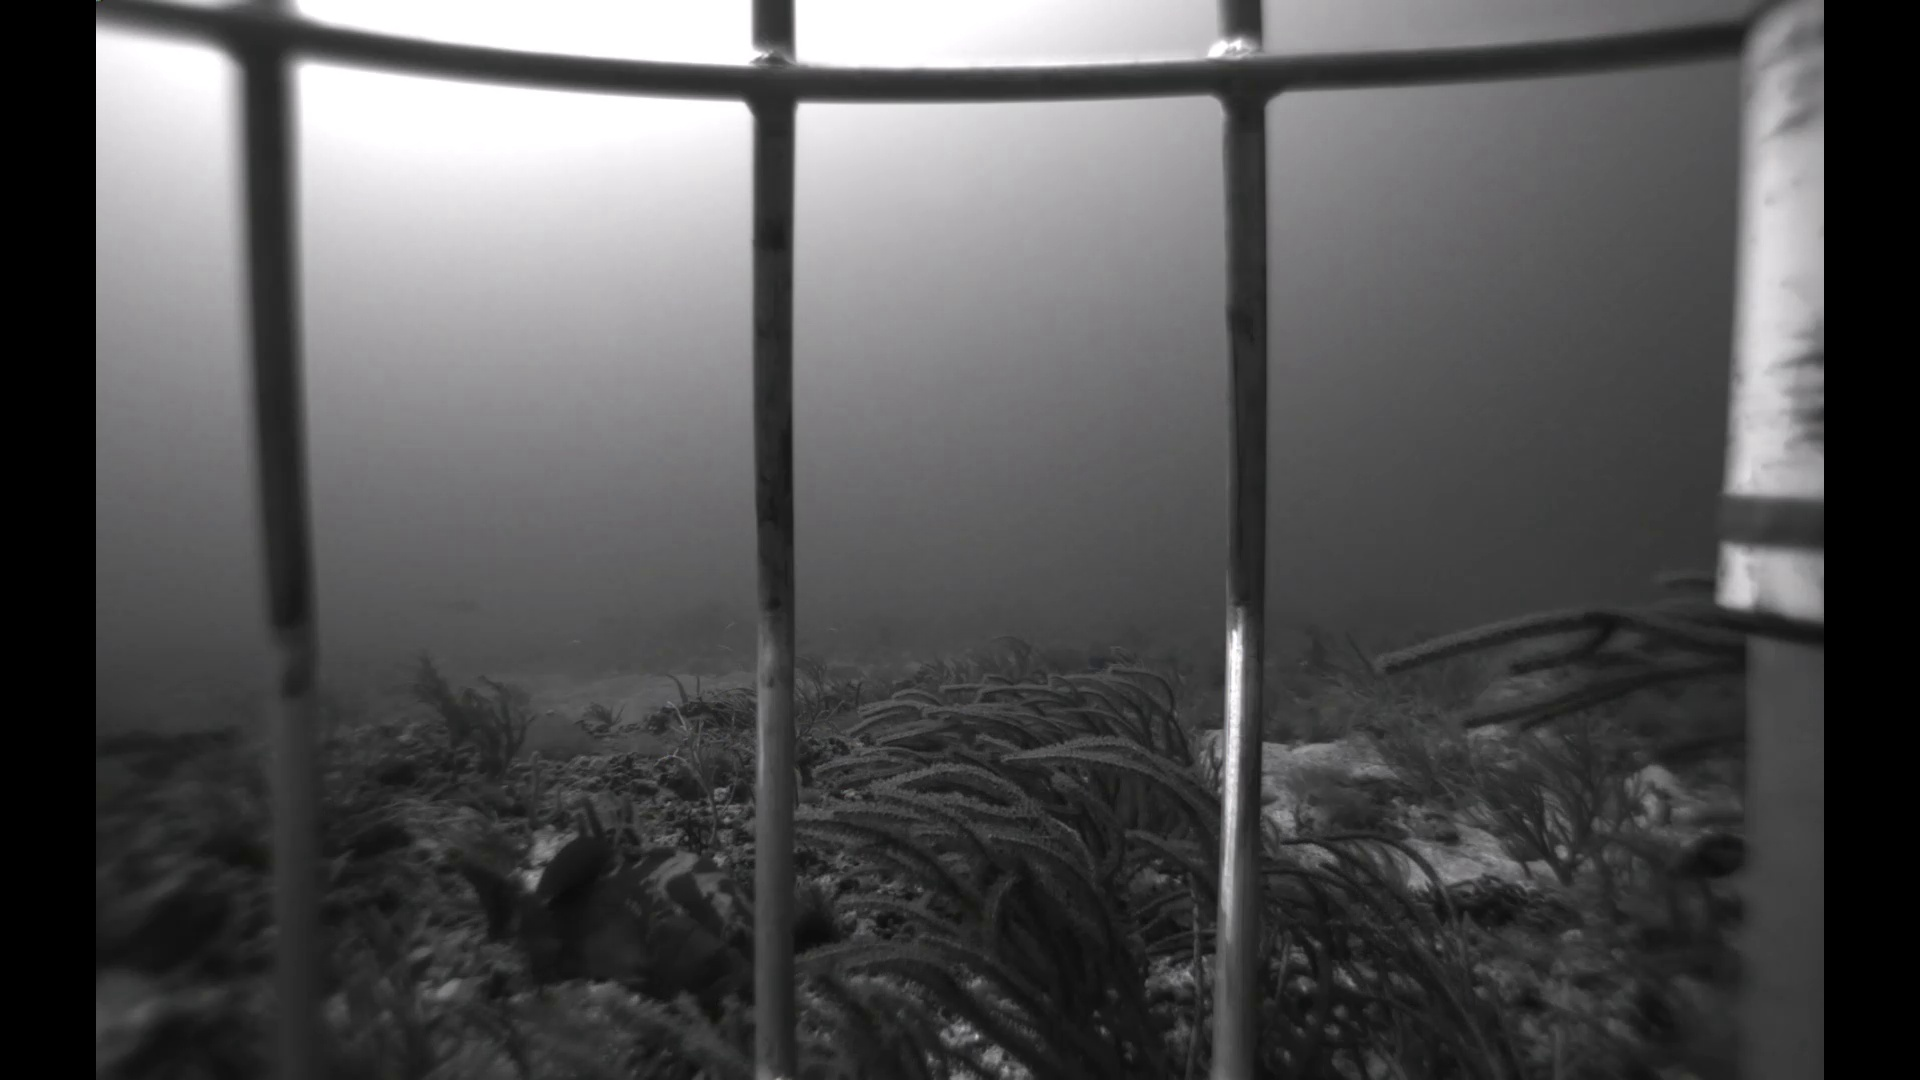CHAETODONOCELLATUS-170260307: (98, 764, 141, 816)
EPINEPHELUSMORIO-170021211: (455, 815, 752, 1018)
HOLACANTHUSBERMUDENSIS-170290102: (1100, 756, 1185, 841)
HYPOPLECTRUS-170021500: (1671, 812, 1746, 895)
IOGLOSSUS-170550800: (560, 636, 588, 655), (1187, 595, 1211, 612), (713, 640, 735, 654), (723, 620, 740, 634), (825, 622, 843, 636), (735, 662, 746, 674)
PAGRUSPAGRUS-170212302: (411, 587, 496, 626)
